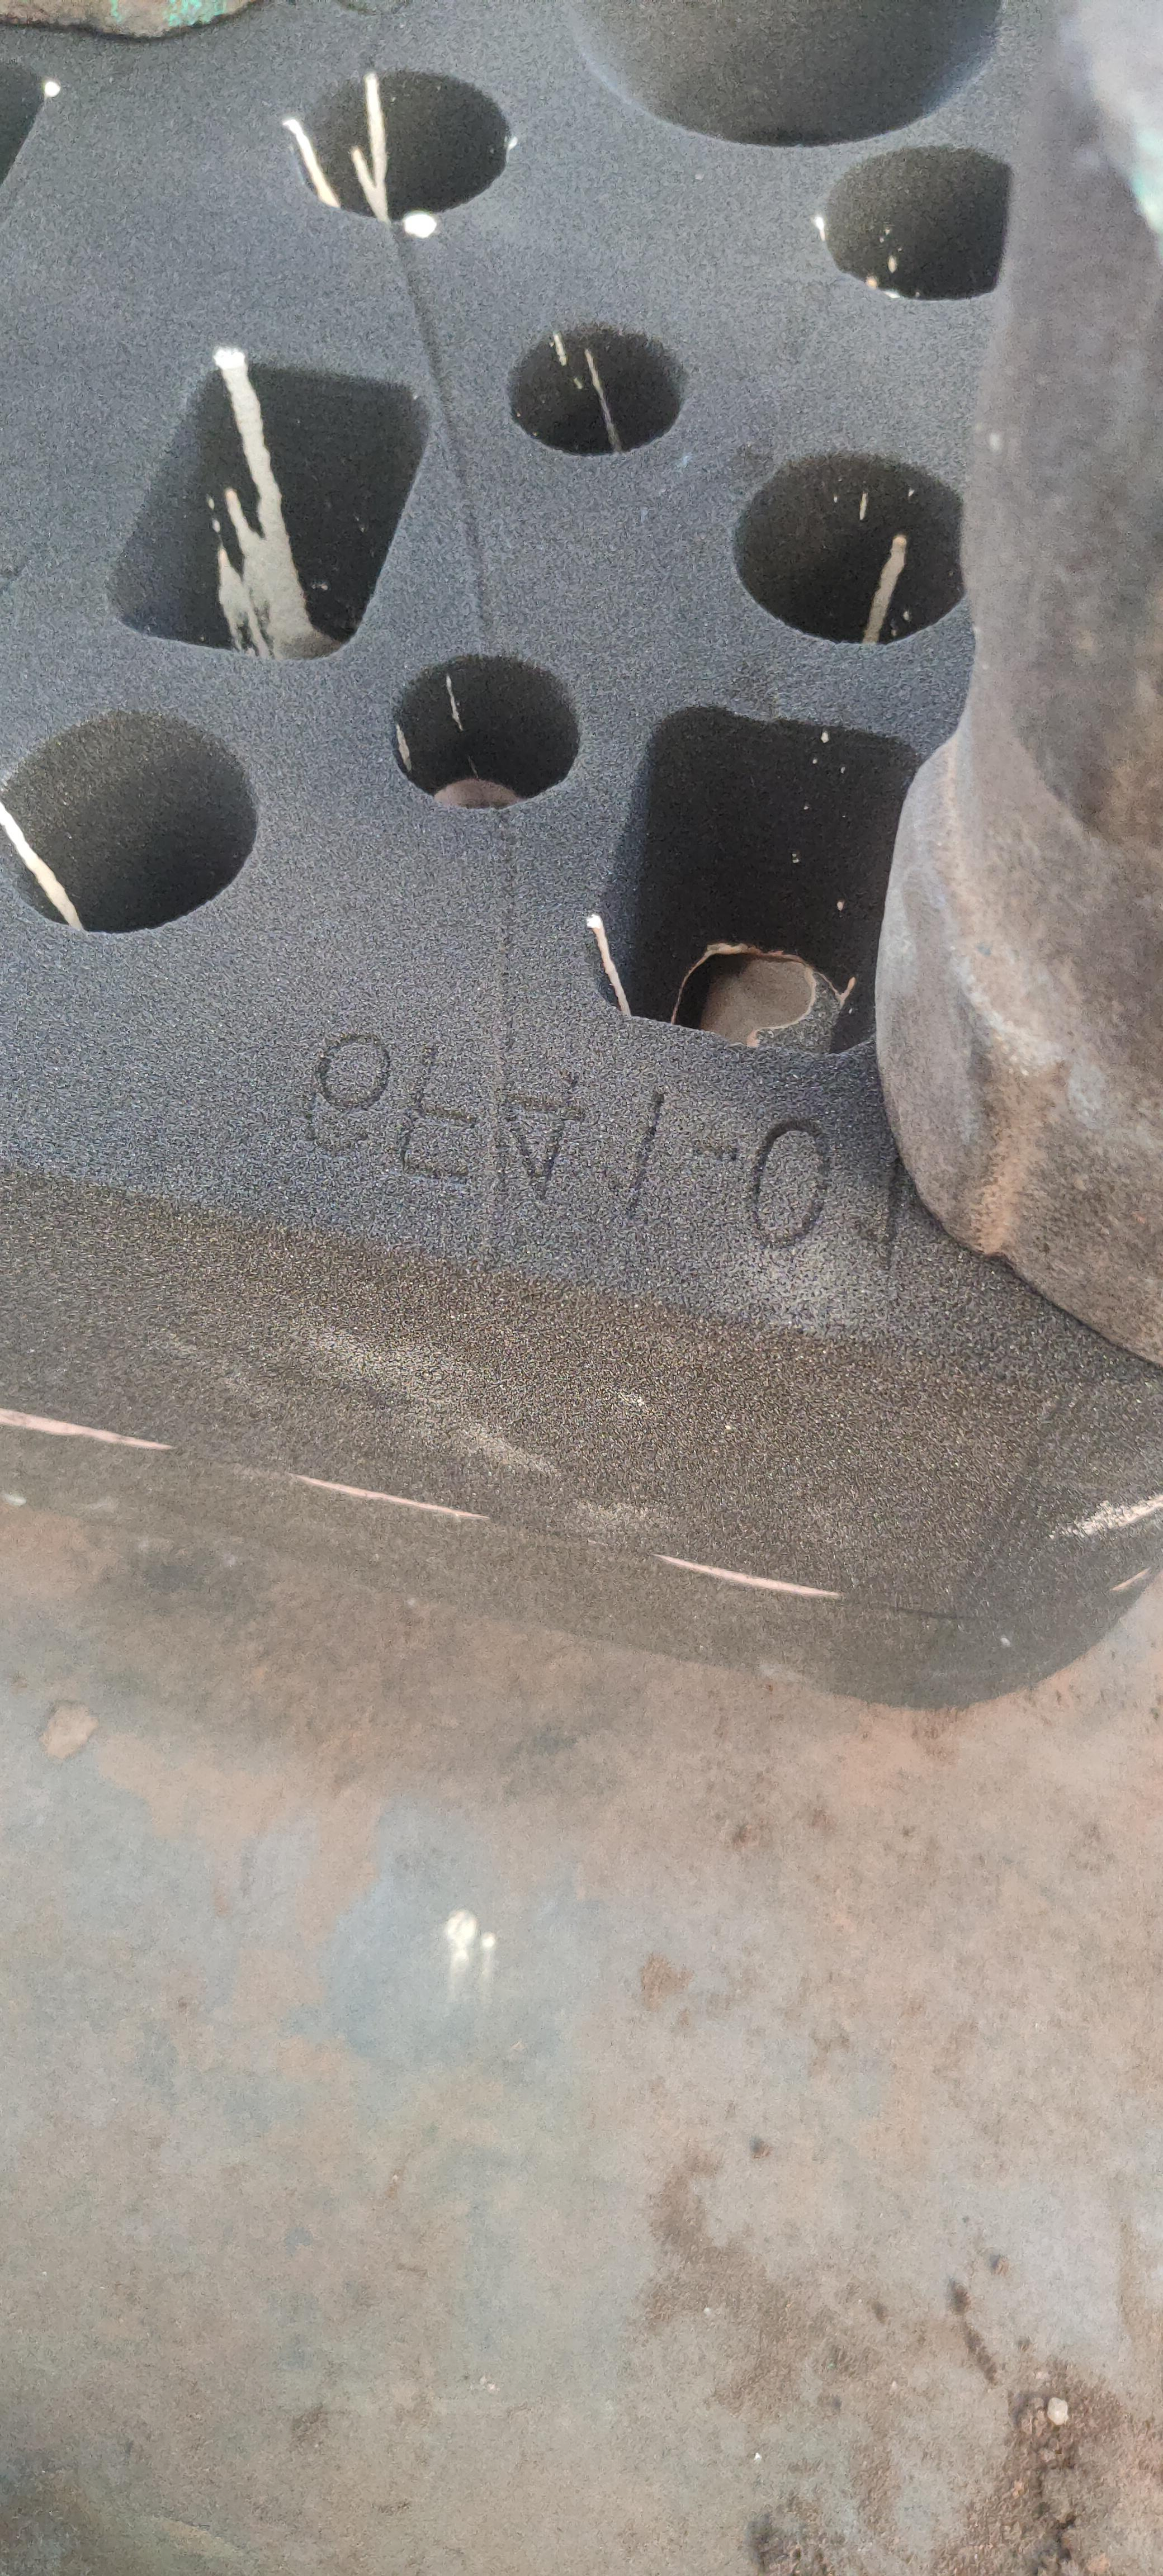pouring hole: (549, 0, 1020, 145)
